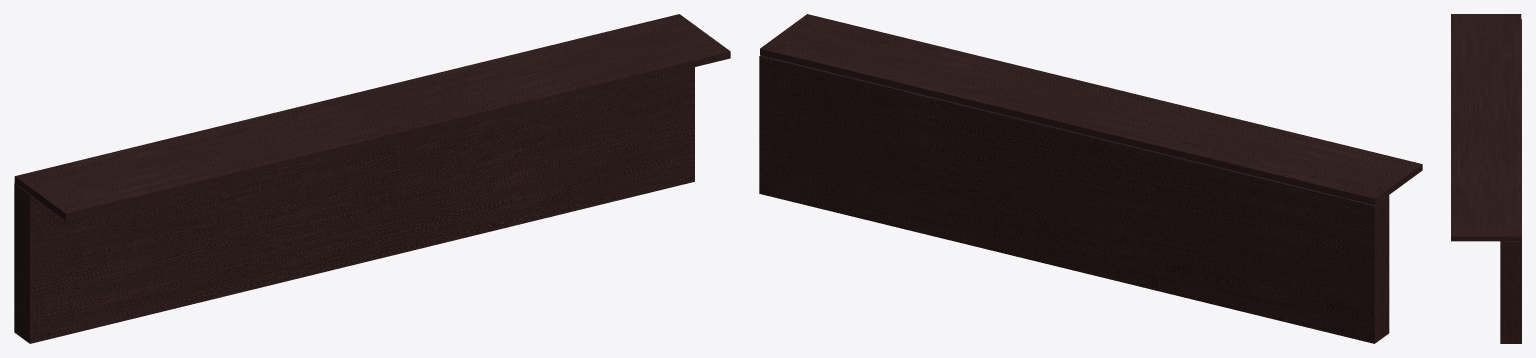
File: Counter 2.FBX
The picture shows the model from 3 angles, left to right: view 1: azimuth 30°, elevation 25°; view 2: azimuth 150°, elevation 25°; view 3: azimuth 270°, elevation 25°; orthographic projection. The views are drawn at different scales.
Parts seen in each view (by area): view 1: counter 2; view 2: counter 2; view 3: counter 2.
Boxes of the visible parts, x1,y1,x2,y2 form: counter 2: [14, 14, 730, 343]; counter 2: [759, 14, 1422, 343]; counter 2: [1451, 14, 1521, 343].
Size of the model in its own units: 504 by 113 by 67.95.
1 material, 1 textured.
